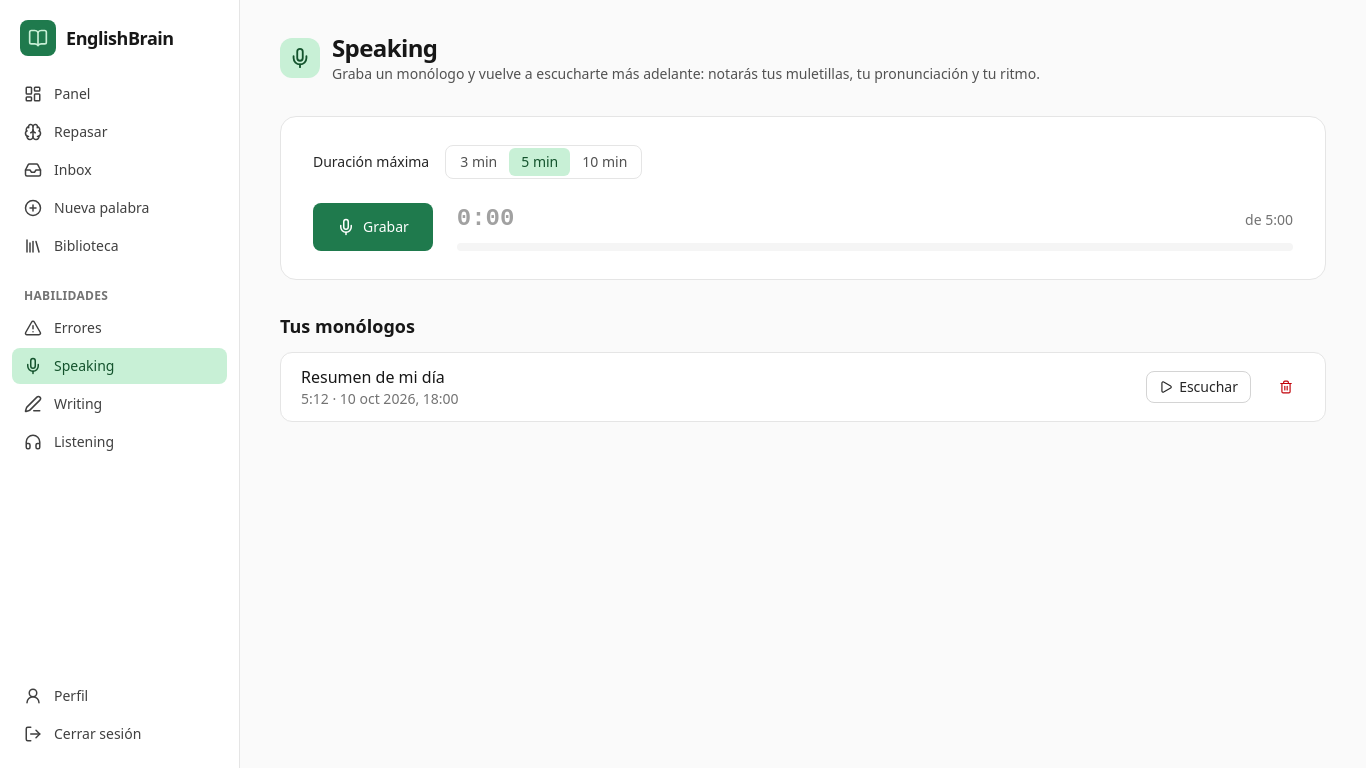
Test: 13.3 · Grabar, previsualizar y subir › al detener prepara el MP3 y permite escucharlo antes de subir (nada se envía todavía)
The image size is (1366, 768).
Click the button "Grabar": (373, 227) [313, 203, 433, 251]
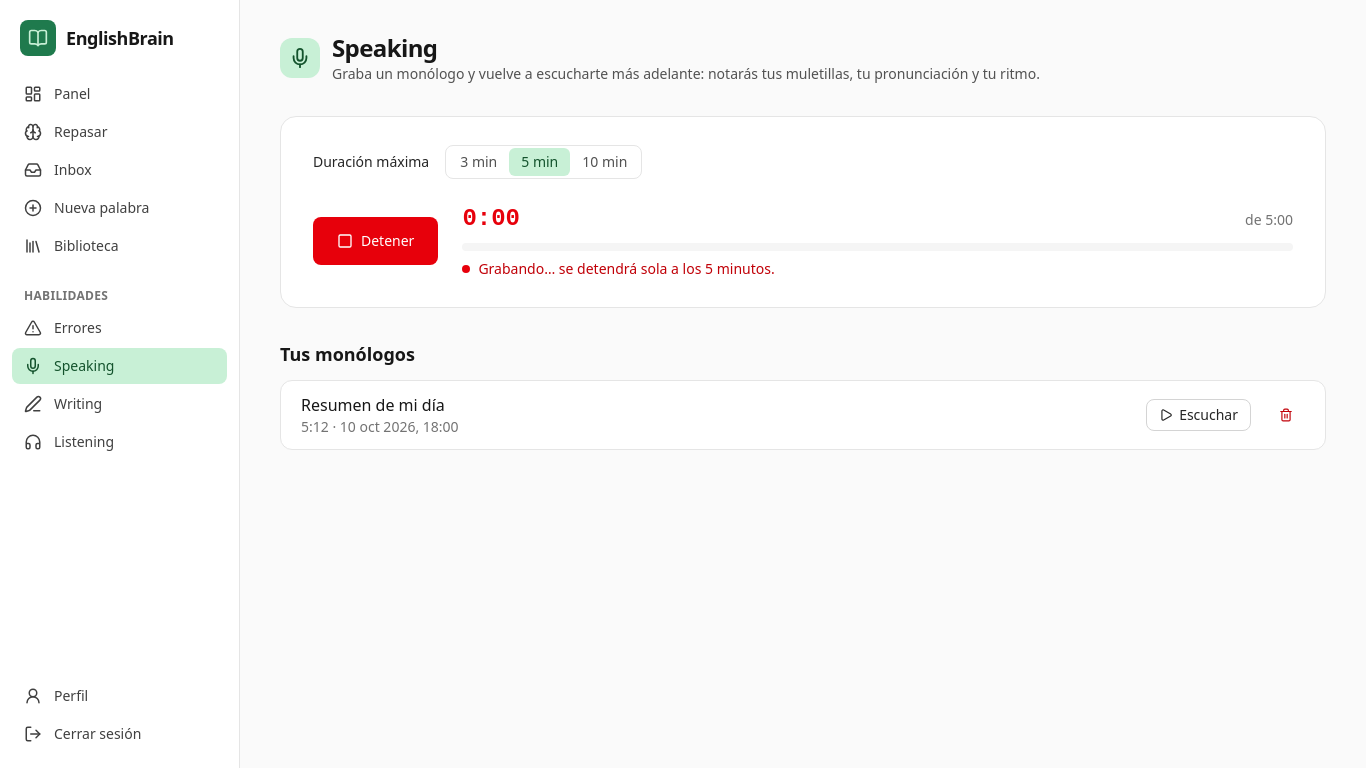
Click the button "Detener": (376, 241) [313, 217, 438, 265]
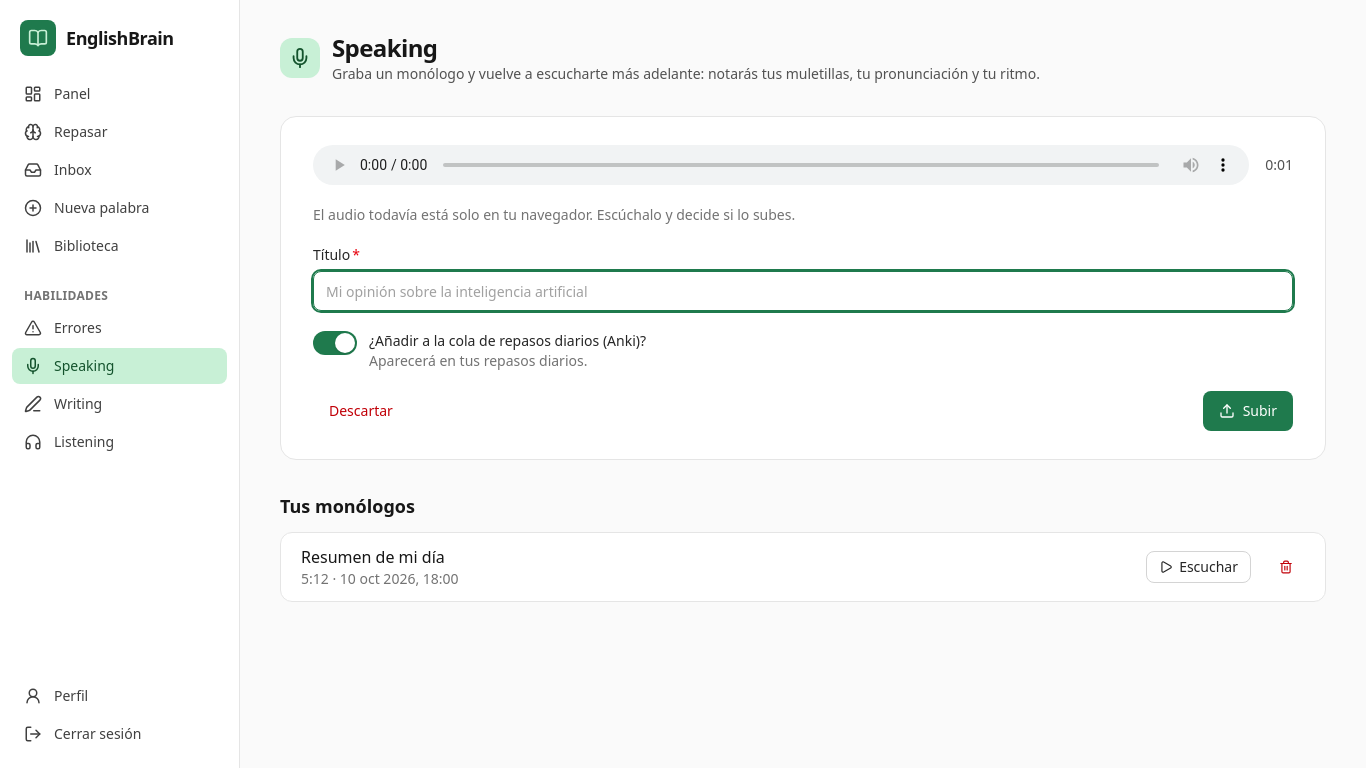
Expected: the element named "Escuchar tu grabación antes de subirla" is shown, [313, 145, 1249, 185]
Expected: the text "todavía está solo en tu navegador" is shown, [313, 205, 795, 224]
